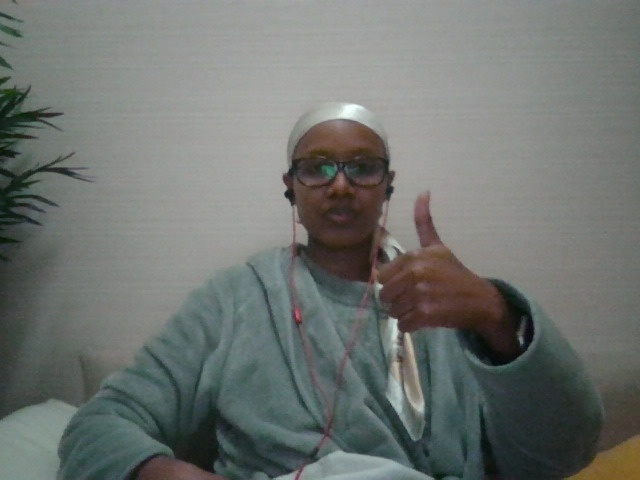goodjob: (369, 186, 508, 342)
